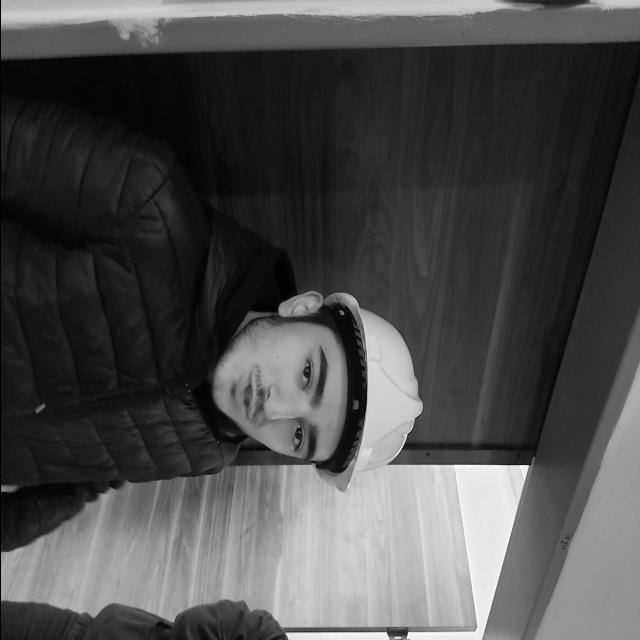safety_helmet: (276, 290, 421, 492)
